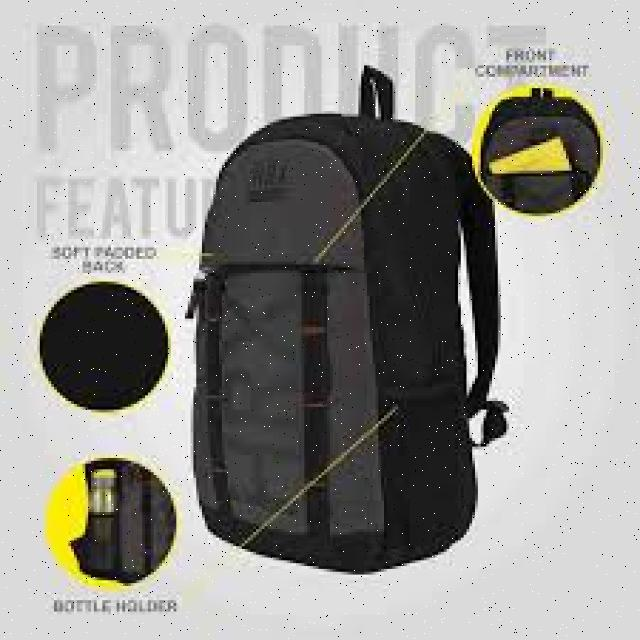backpack: (185, 62, 509, 572)
